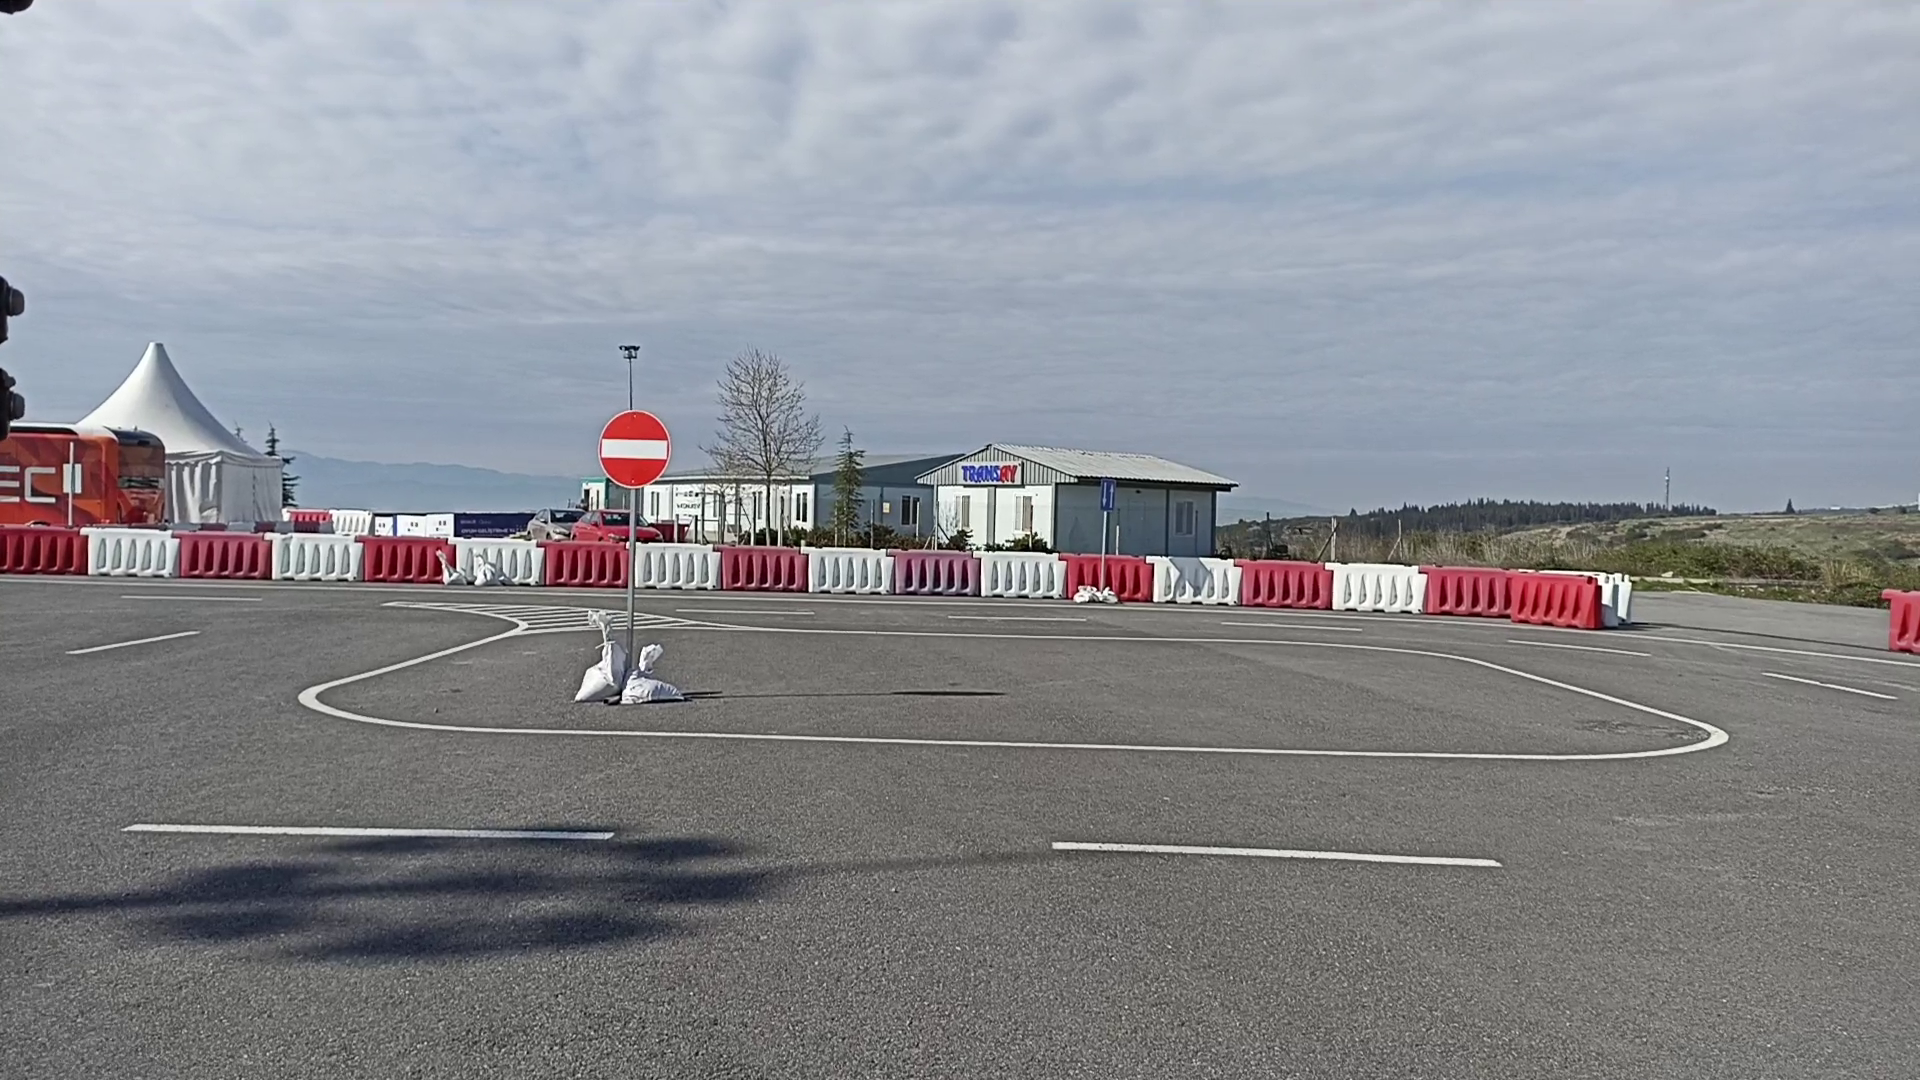noentryway: (595, 407, 674, 491)
